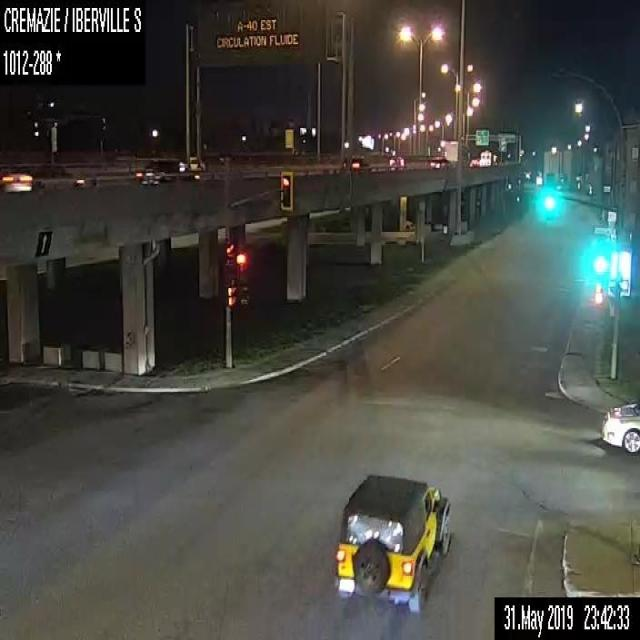vehicle: (333, 473, 452, 612), (4, 158, 95, 192), (599, 402, 639, 454), (135, 156, 201, 184), (340, 154, 371, 170), (443, 139, 458, 164), (429, 155, 451, 169), (388, 153, 405, 169), (479, 150, 491, 166), (469, 158, 479, 166)
